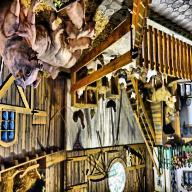boar: (0, 1, 97, 90)
